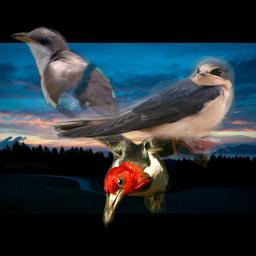Cuckoo: (9, 24, 138, 179)
Swallow: (53, 55, 235, 154)
Woodpecker: (44, 114, 210, 228)
